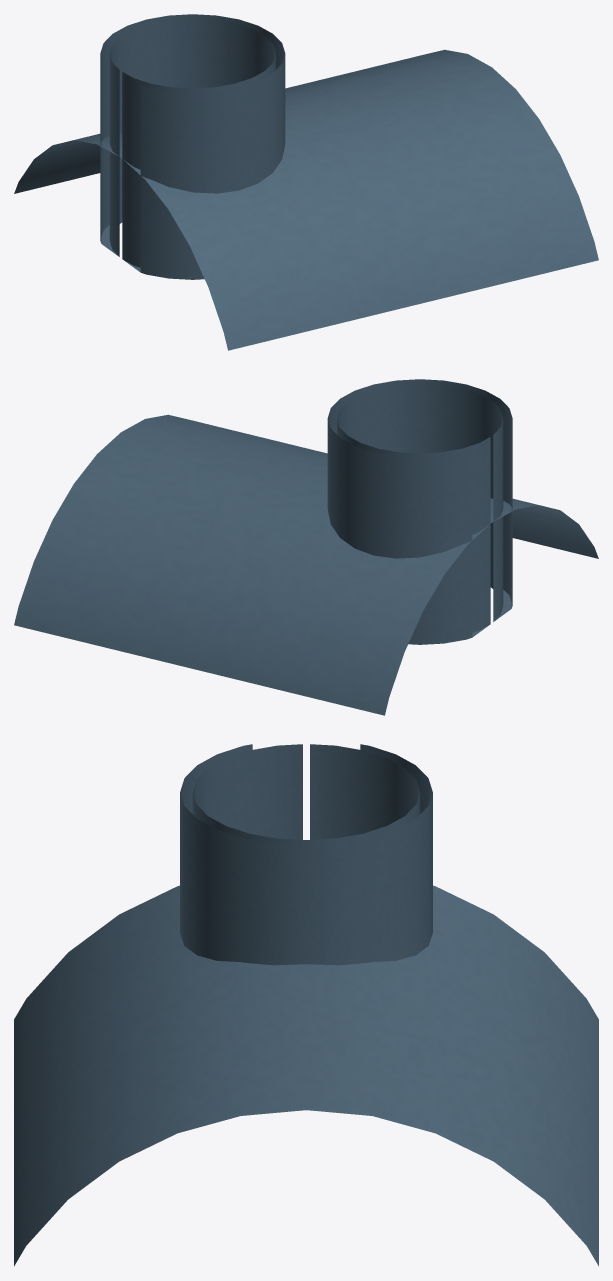
The model's file is cell_29.obj.
The picture shows the model from 3 angles, top to bottom: view 1: azimuth 30°, elevation 25°; view 2: azimuth 150°, elevation 25°; view 3: azimuth 270°, elevation 25°; orthographic projection. The views are drawn at different scales.
Parts seen in each view (by area): view 1: cell_29; view 2: cell_29; view 3: cell_29.
Boxes of the visible parts, <box> form: cell_29: <box>14,14,598,350</box>; cell_29: <box>14,379,598,715</box>; cell_29: <box>14,744,598,1266</box>.
Bounding box in the file's own units: 1 × 0.5194 × 1.
